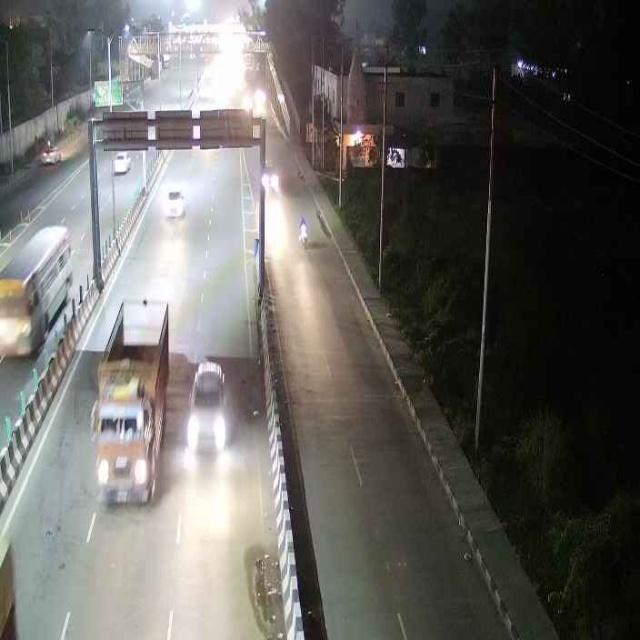car: (184, 355, 229, 453), (162, 182, 189, 220)
